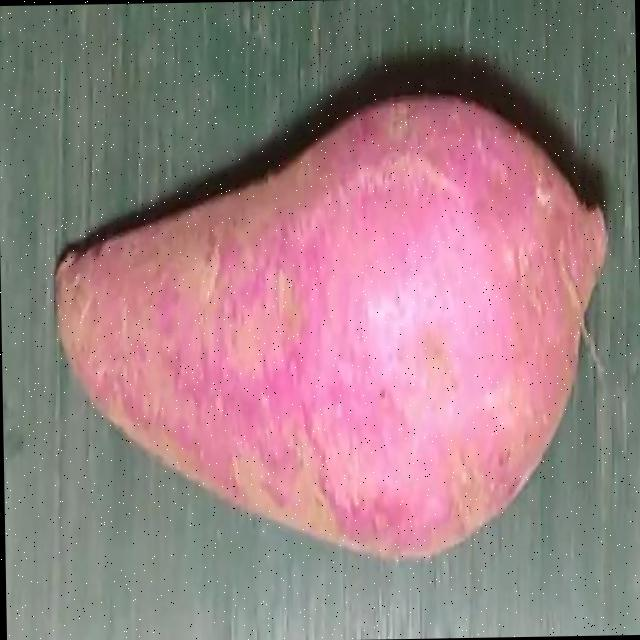Sweet Potato: (49, 91, 607, 562)
